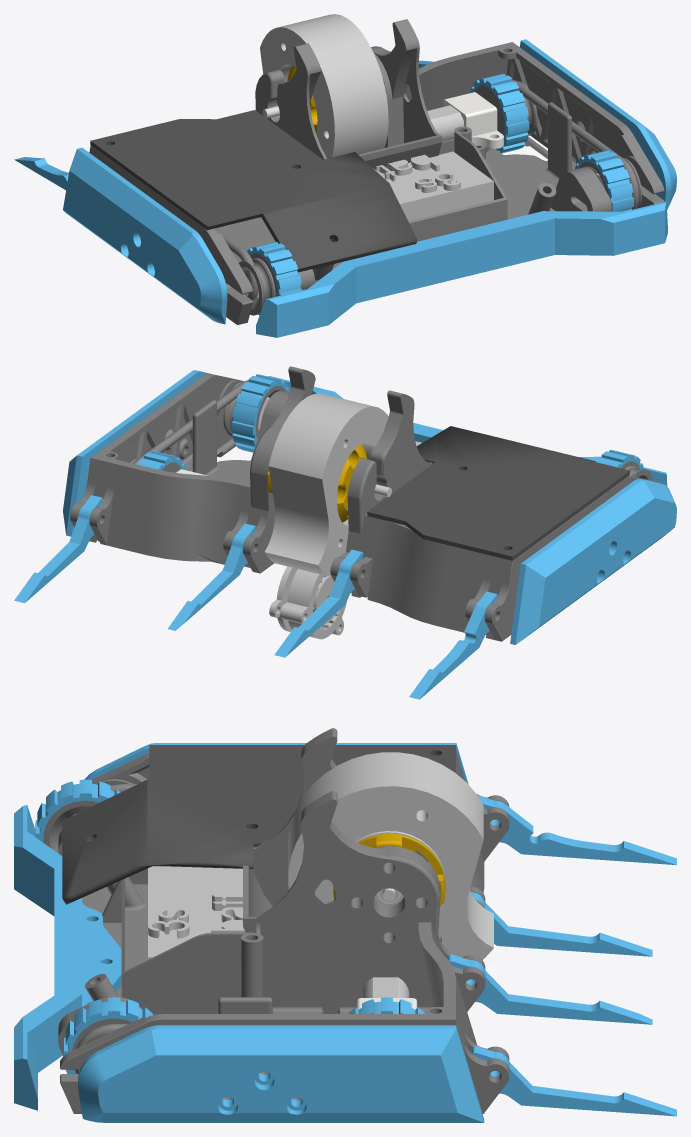
File: VentspilsHack.glb
3 renders of one model, top to bottom at view 1: azimuth 30°, elevation 25°; view 2: azimuth 150°, elevation 25°; view 3: azimuth 270°, elevation 25°, orthographic. The views are drawn at different scales.
Visible parts, largest first — view 1: VentspilsHack, topplate; view 2: VentspilsHack, topplate; view 3: VentspilsHack, topplate.
Boxes of the visible parts, bbox=[...] form: VentspilsHack: bbox=[14, 14, 676, 337]; topplate: bbox=[90, 110, 417, 272]; VentspilsHack: bbox=[14, 366, 676, 699]; topplate: bbox=[367, 426, 630, 560]; VentspilsHack: bbox=[14, 728, 676, 1122]; topplate: bbox=[62, 745, 455, 904].
Bounding box in the file's own units: 17.73 × 8.82 × 16.41.
